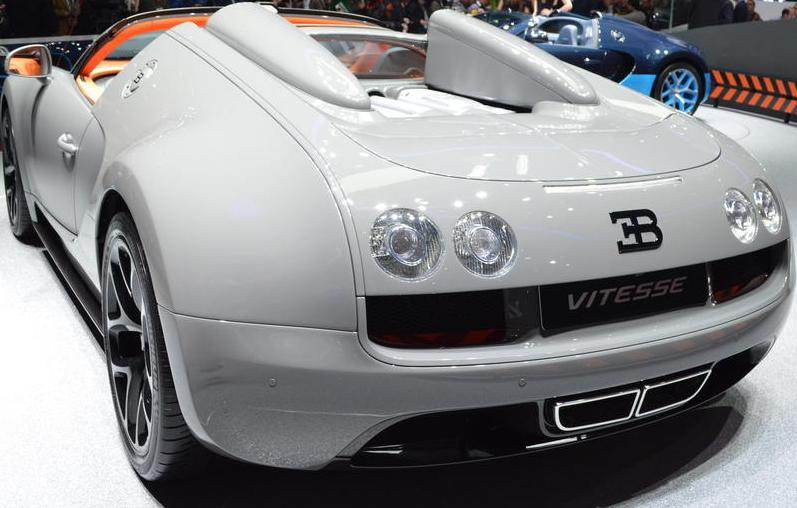back_view: (283, 165, 796, 484)
backlight: (353, 281, 537, 372)
